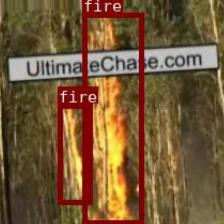fire: (81, 11, 143, 224), (57, 102, 92, 204)
